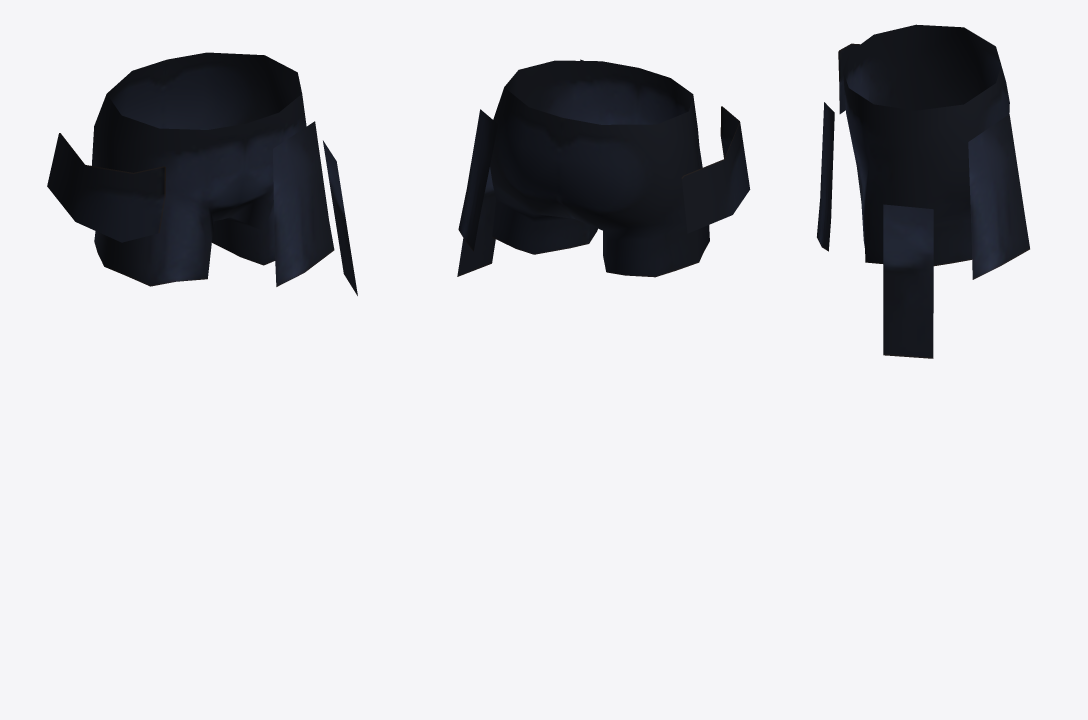
The model's file is hum_wanderer_05_e3700b32.glb.
The picture shows the model from 3 angles, left to right: view 1: azimuth 30°, elevation 25°; view 2: azimuth 150°, elevation 25°; view 3: azimuth 270°, elevation 25°; orthographic projection. The views are drawn at different scales.
Size of the model in its own units: 0.8487 by 1.42 by 0.5725.
Materials: 1 (1 with a texture image).
